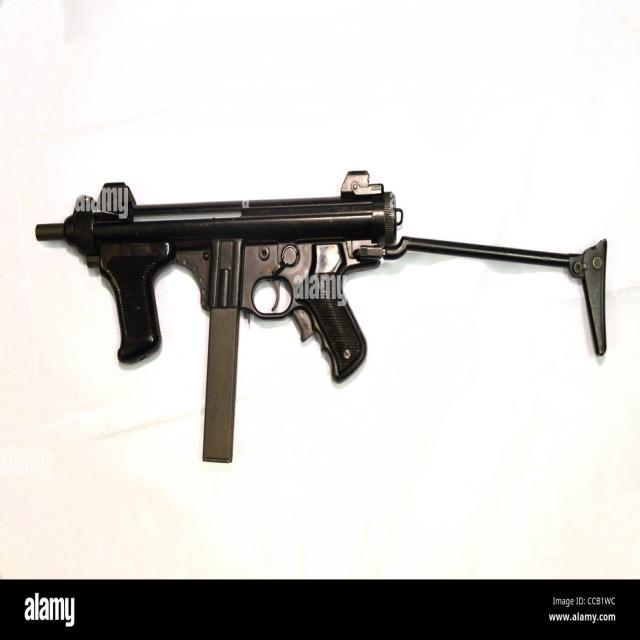smg: (28, 149, 621, 507)
